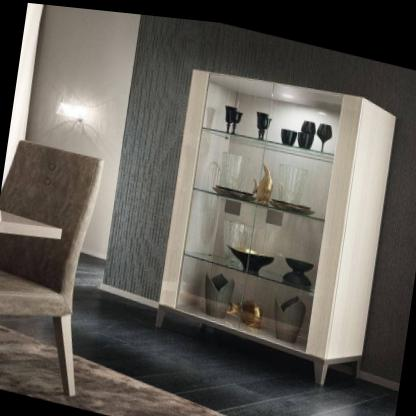Cupboard: (148, 47, 402, 385)
